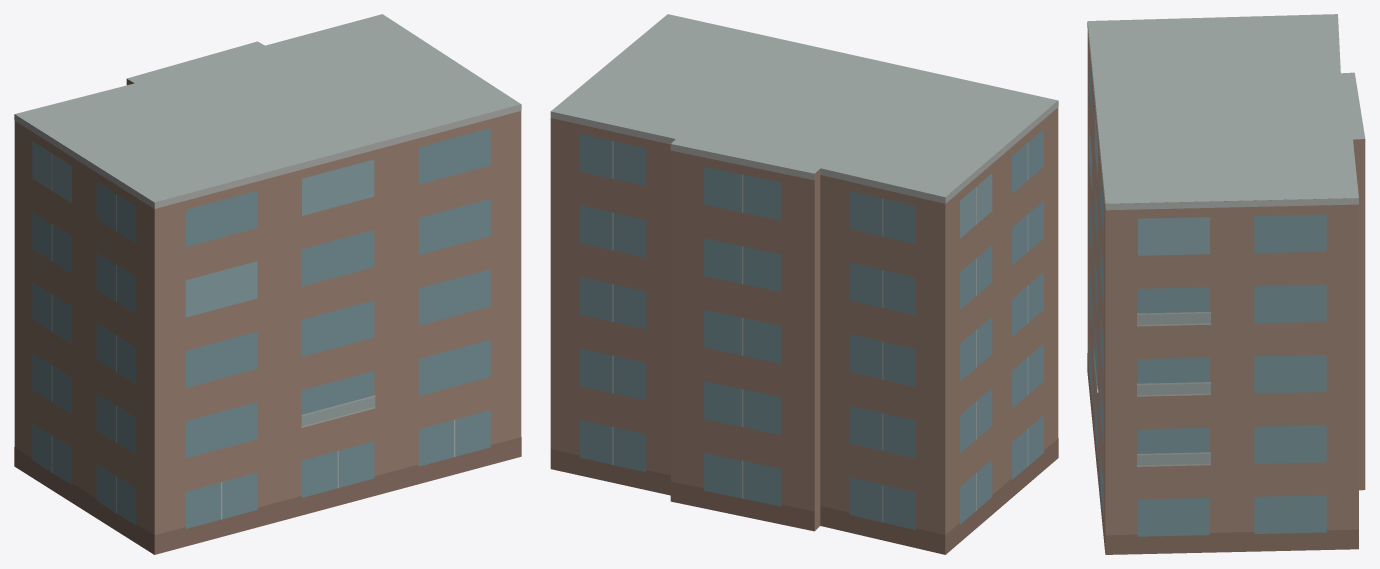
File: survey-upis-32885616.glb
3 renders of one model, left to right at view 1: azimuth 30°, elevation 25°; view 2: azimuth 150°, elevation 25°; view 3: azimuth 270°, elevation 25°, orthographic.
Visible parts, largest first — view 1: survey-upis-32885616.tmp; view 2: survey-upis-32885616.tmp; view 3: survey-upis-32885616.tmp.
Part boxes in pixels (left/top/right/bottom): survey-upis-32885616.tmp: left=14, top=14, right=521, bottom=554; survey-upis-32885616.tmp: left=550, top=14, right=1058, bottom=554; survey-upis-32885616.tmp: left=1087, top=14, right=1365, bottom=554.
Size of the model in its own units: 15.31 by 13.2 by 9.48.
